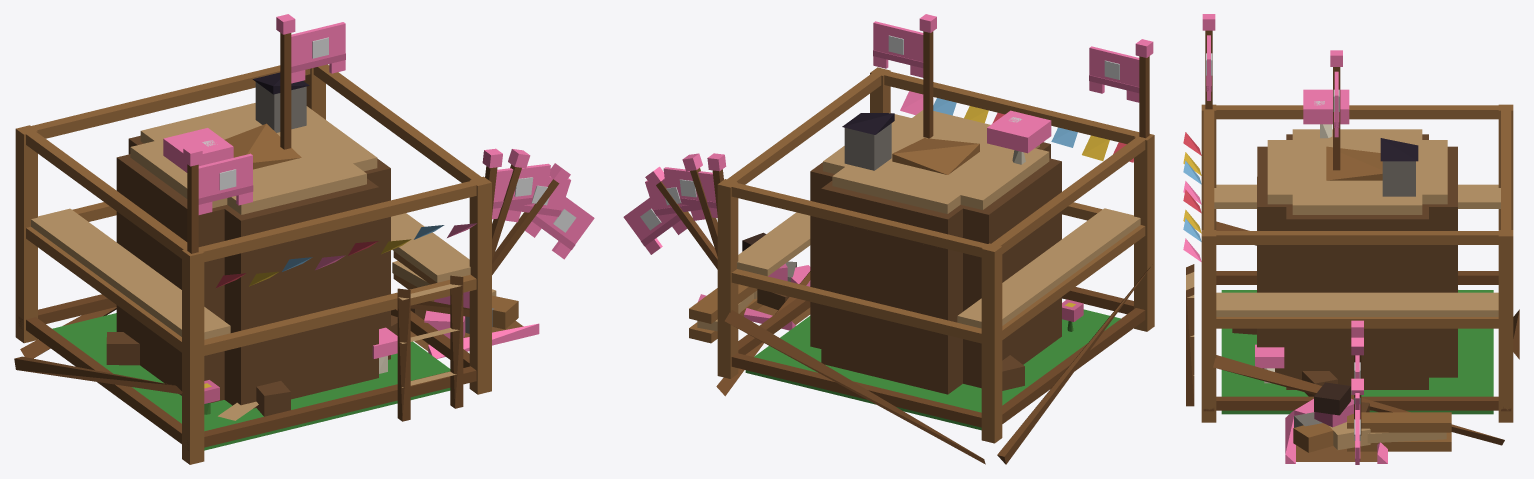
Rendered from opossum-home.glb.
The picture shows the model from 3 angles, left to right: view 1: azimuth 30°, elevation 25°; view 2: azimuth 150°, elevation 25°; view 3: azimuth 270°, elevation 25°; orthographic projection. The views are drawn at different scales.
Visible parts, largest first — view 1: scaffold-mesh, built-mesh, dismantle-75-mesh, dismantle-25-mesh, dismantle-50-mesh, scaffold-banner, banner, dismantle-25-banner, flag-pole, dismantle-75-banner, dismantle-50-banner, scaffold-flag-pole (+2 smaller); view 2: scaffold-mesh, built-mesh, dismantle-75-mesh, dismantle-50-mesh, scaffold-banner, banner, dismantle-25-mesh, dismantle-25-banner, flag-pole, dismantle-75-banner, scaffold-flag-pole, dismantle-25-flag-pole (+2 smaller); view 3: scaffold-mesh, built-mesh, dismantle-75-mesh, dismantle-50-mesh, dismantle-25-mesh, flag-pole, scaffold-flag-pole, banner, scaffold-banner.
Boxes of the visible parts, x1=… form: scaffold-mesh: x1=14, y1=64, x2=491, y2=464; built-mesh: x1=116, y1=72, x2=393, y2=416; dismantle-75-mesh: x1=106, y1=211, x2=539, y2=413; dismantle-25-mesh: x1=140, y1=291, x2=539, y2=420; dismantle-50-mesh: x1=116, y1=291, x2=539, y2=413; scaffold-banner: x1=198, y1=153, x2=253, y2=214; banner: x1=291, y1=22, x2=345, y2=83; dismantle-25-banner: x1=525, y1=192, x2=594, y2=259; flag-pole: x1=276, y1=14, x2=295, y2=149; dismantle-75-banner: x1=492, y1=163, x2=550, y2=219; dismantle-50-banner: x1=505, y1=175, x2=570, y2=227; scaffold-flag-pole: x1=183, y1=146, x2=202, y2=253; scaffold-mesh: x1=689, y1=67, x2=1154, y2=464; built-mesh: x1=810, y1=110, x2=1083, y2=394; dismantle-75-mesh: x1=698, y1=211, x2=1075, y2=429; dismantle-50-mesh: x1=744, y1=264, x2=1040, y2=429; scaffold-banner: x1=1089, y1=46, x2=1139, y2=102; banner: x1=873, y1=21, x2=923, y2=77; dismantle-25-mesh: x1=742, y1=232, x2=1060, y2=429; dismantle-25-banner: x1=623, y1=190, x2=687, y2=254; flag-pole: x1=919, y1=14, x2=936, y2=138; dismantle-75-banner: x1=663, y1=167, x2=717, y2=217; scaffold-flag-pole: x1=1135, y1=39, x2=1153, y2=138; dismantle-25-flag-pole: x1=645, y1=166, x2=717, y2=269; scaffold-mesh: x1=1183, y1=104, x2=1519, y2=451; built-mesh: x1=1257, y1=89, x2=1457, y2=395; dismantle-75-mesh: x1=1232, y1=177, x2=1428, y2=463; dismantle-50-mesh: x1=1234, y1=328, x2=1428, y2=463; dismantle-25-mesh: x1=1232, y1=328, x2=1387, y2=463; flag-pole: x1=1330, y1=50, x2=1342, y2=170; scaffold-flag-pole: x1=1202, y1=14, x2=1215, y2=109; banner: x1=1333, y1=71, x2=1339, y2=137; scaffold-banner: x1=1206, y1=35, x2=1212, y2=100.
Bounding box in the file's own units: 2.45 × 1.77 × 1.61.
